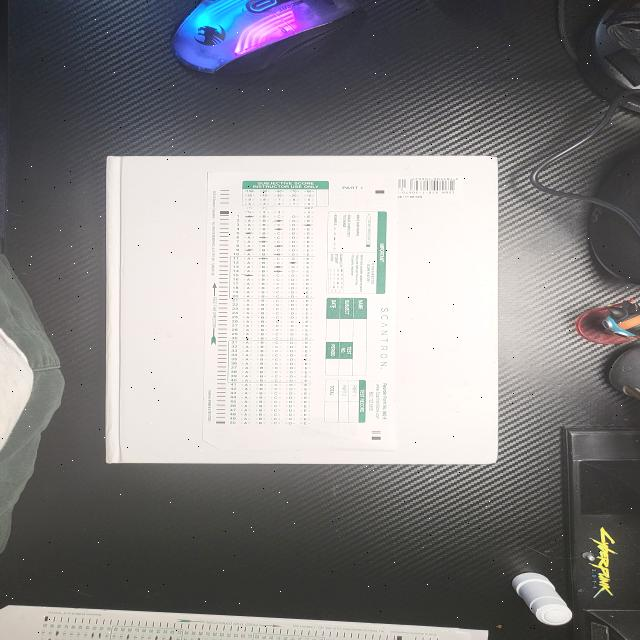scantron: (202, 172, 400, 452)
